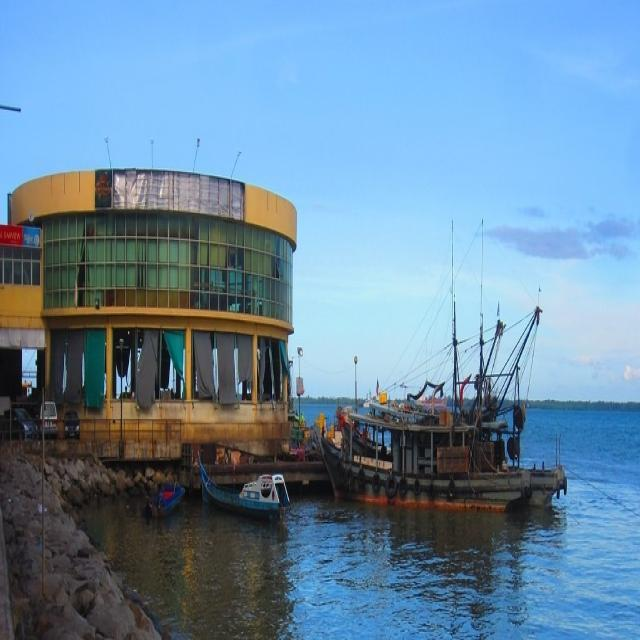boat: (320, 403, 529, 512), (186, 456, 296, 518), (138, 470, 188, 526)
